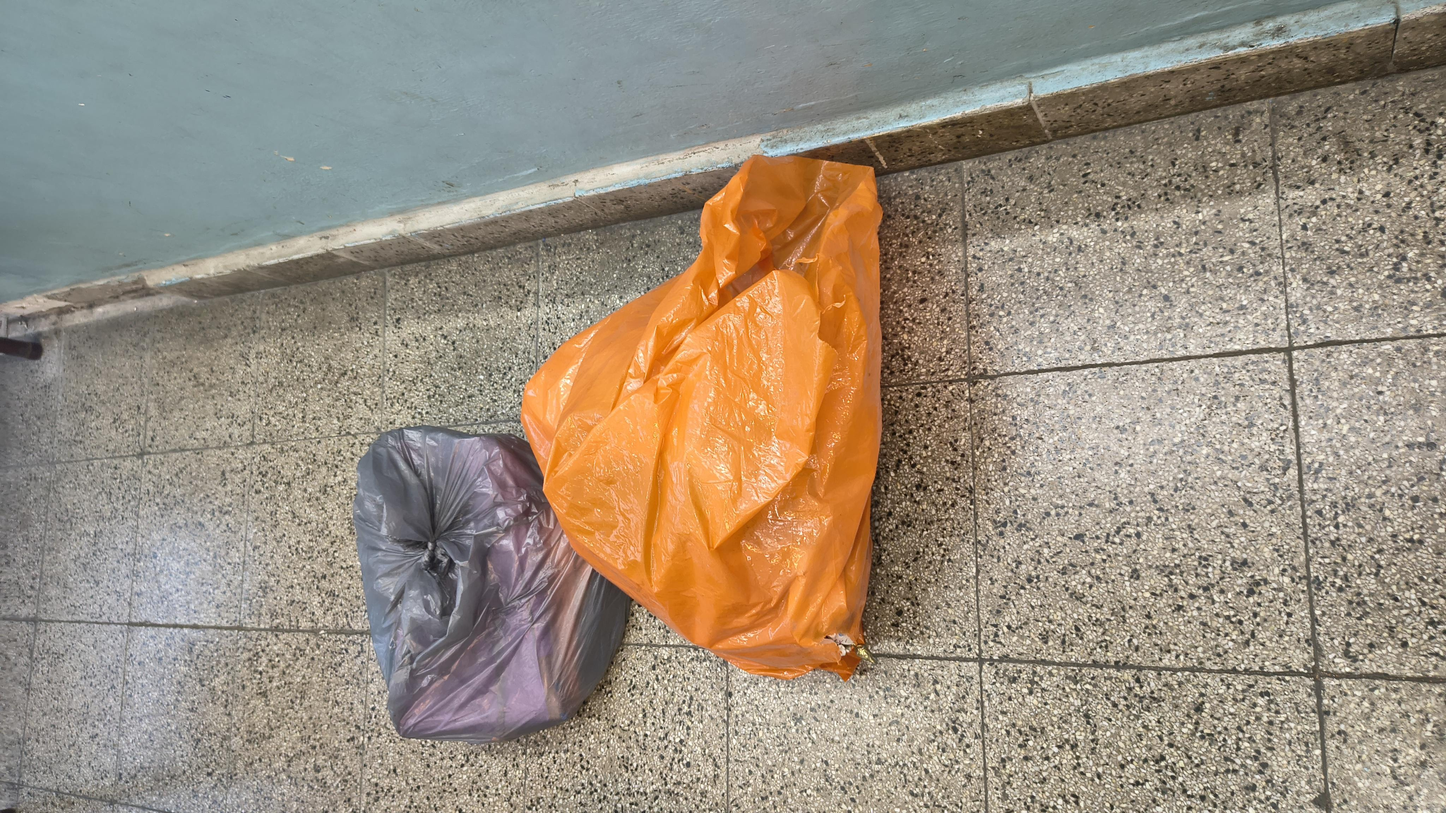Garbage: (182, 274, 1274, 518), (747, 449, 1324, 627)
